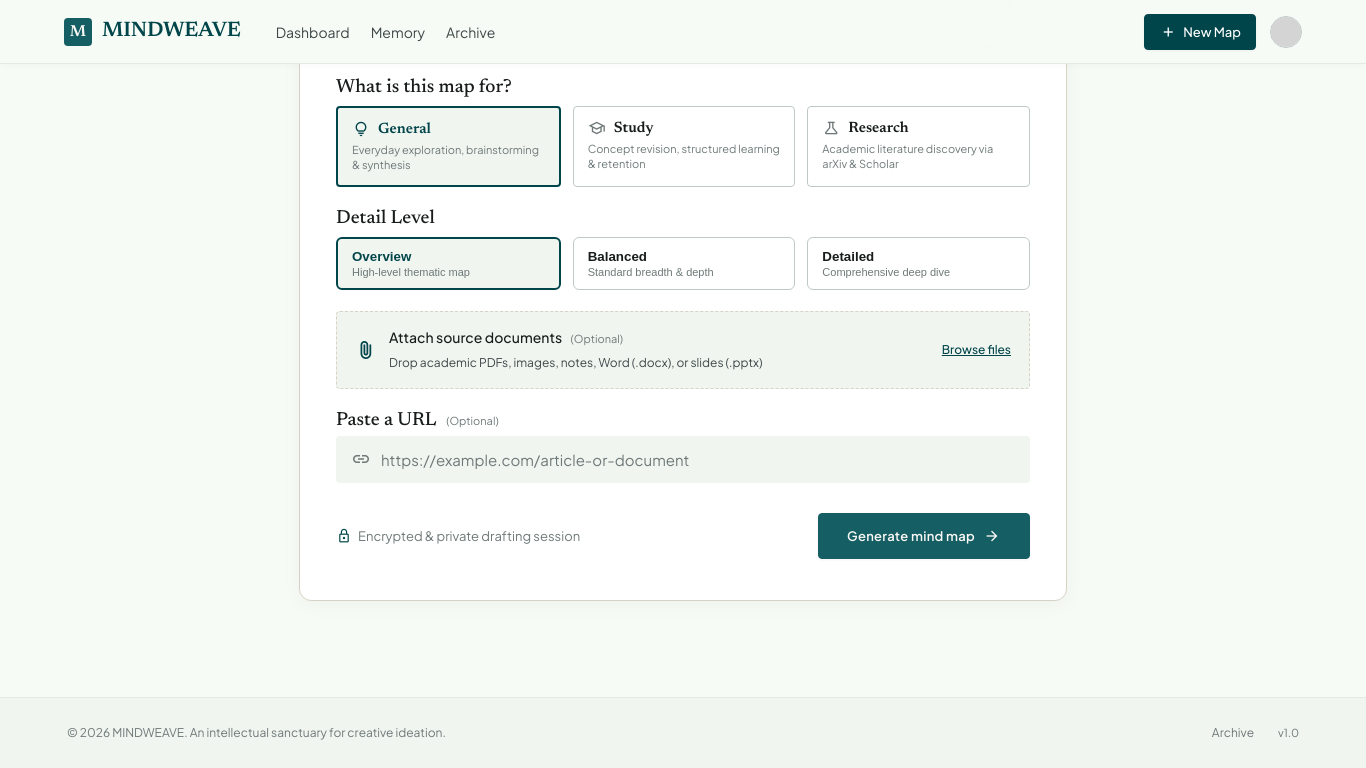
Test: S3-FE4: Upload UI for New Types (DOCX, PPTX, Seed URL) › Per-URL Validation & Inline Error Messaging › clears URL and error when clear button is clicked
(page scrolled)
In the field labelled "Paste a URL (Optional)": (698, 459) [381,437,1015,482], type "https://example.com"
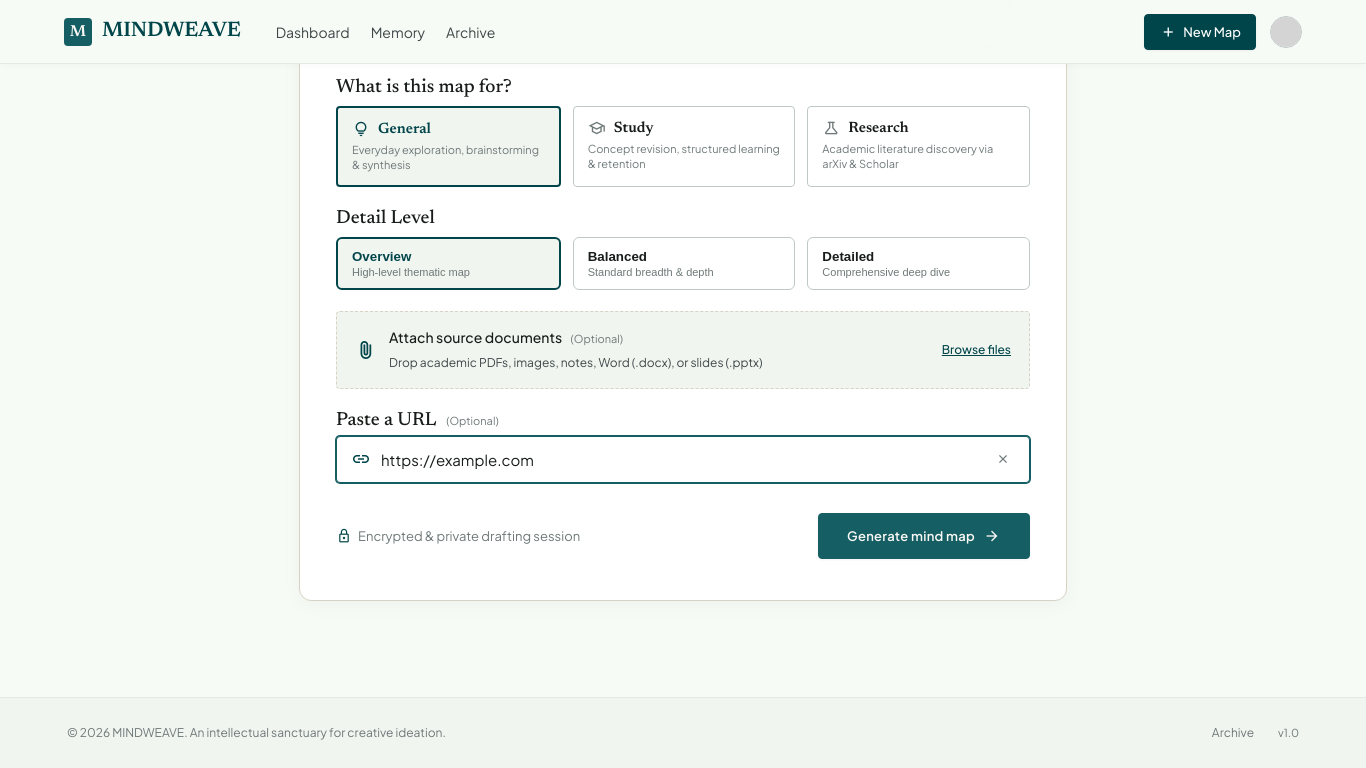
Click the button named "clear url": (1003, 459) [991,447,1015,471]
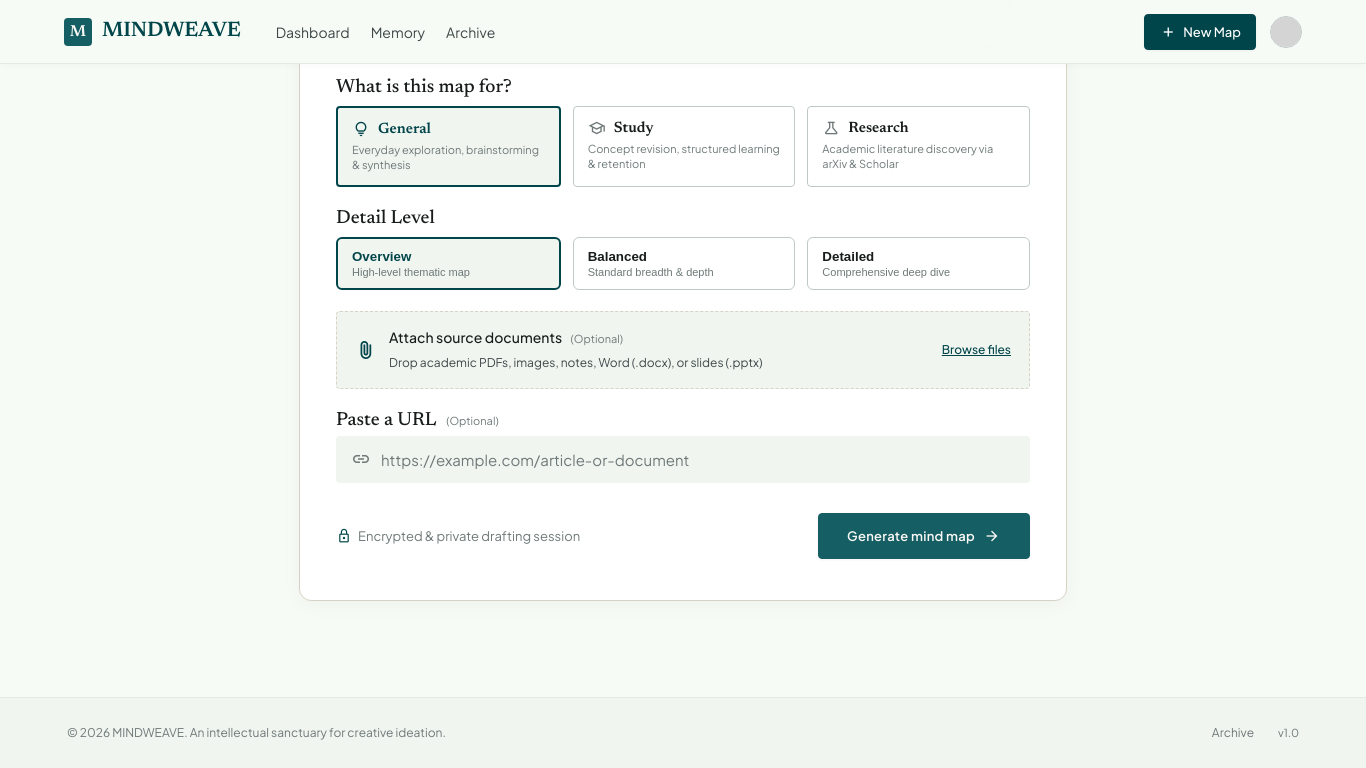
Expected: the field labelled "Paste a URL (Optional)" is empty, [381,437,1015,482]
